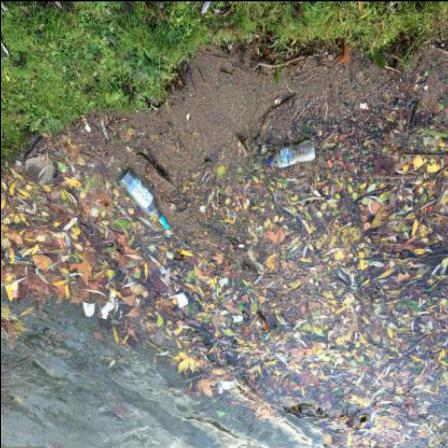Bottle: (120, 167, 172, 229), (269, 140, 316, 168)
Plastic bag - wrapper: (4, 276, 29, 302), (15, 255, 34, 264)
Unlabeled litter: (82, 299, 96, 317)
